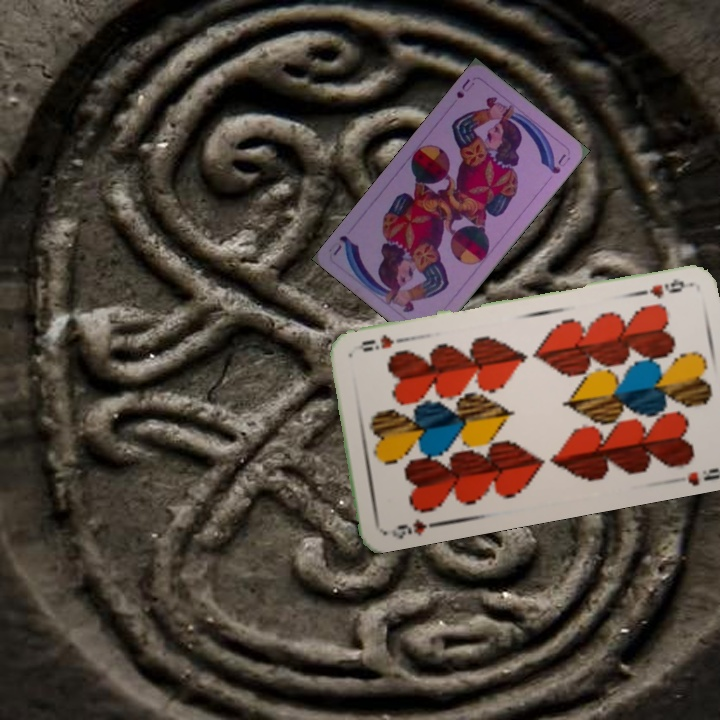H9: (387, 515, 443, 542), (646, 274, 693, 302)
SU: (452, 75, 477, 101)
